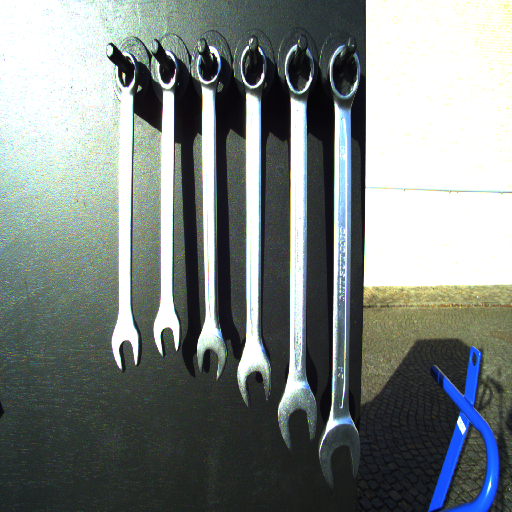bottom: (317, 423, 361, 490), (275, 395, 318, 451), (233, 354, 271, 407), (195, 331, 228, 382), (109, 325, 142, 372), (151, 314, 183, 358)
top: (326, 42, 362, 107), (283, 42, 316, 100), (238, 42, 271, 97), (112, 51, 143, 96), (195, 45, 224, 89), (155, 49, 181, 91)
